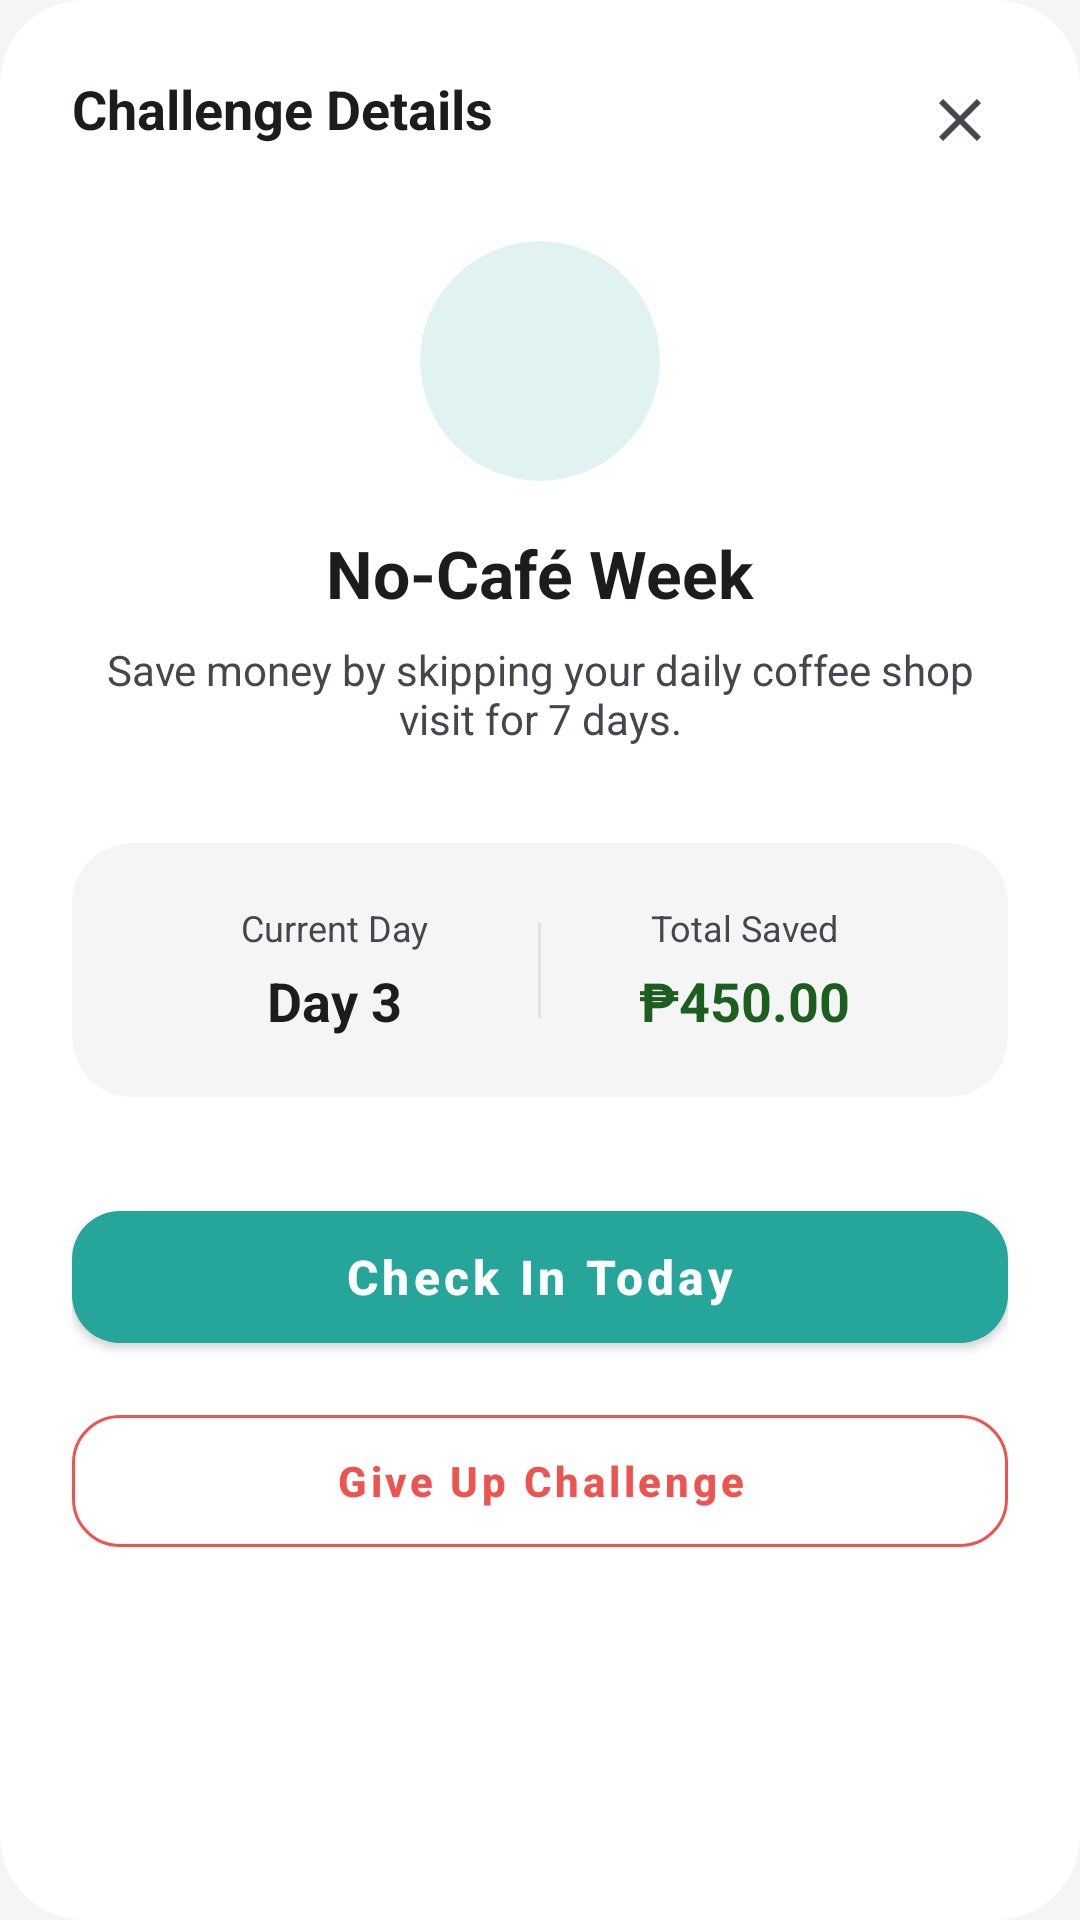

Named icons in this screenshot (1080*1920) and their centers, (x=x, y=y):
Close: (x=960, y=120)
